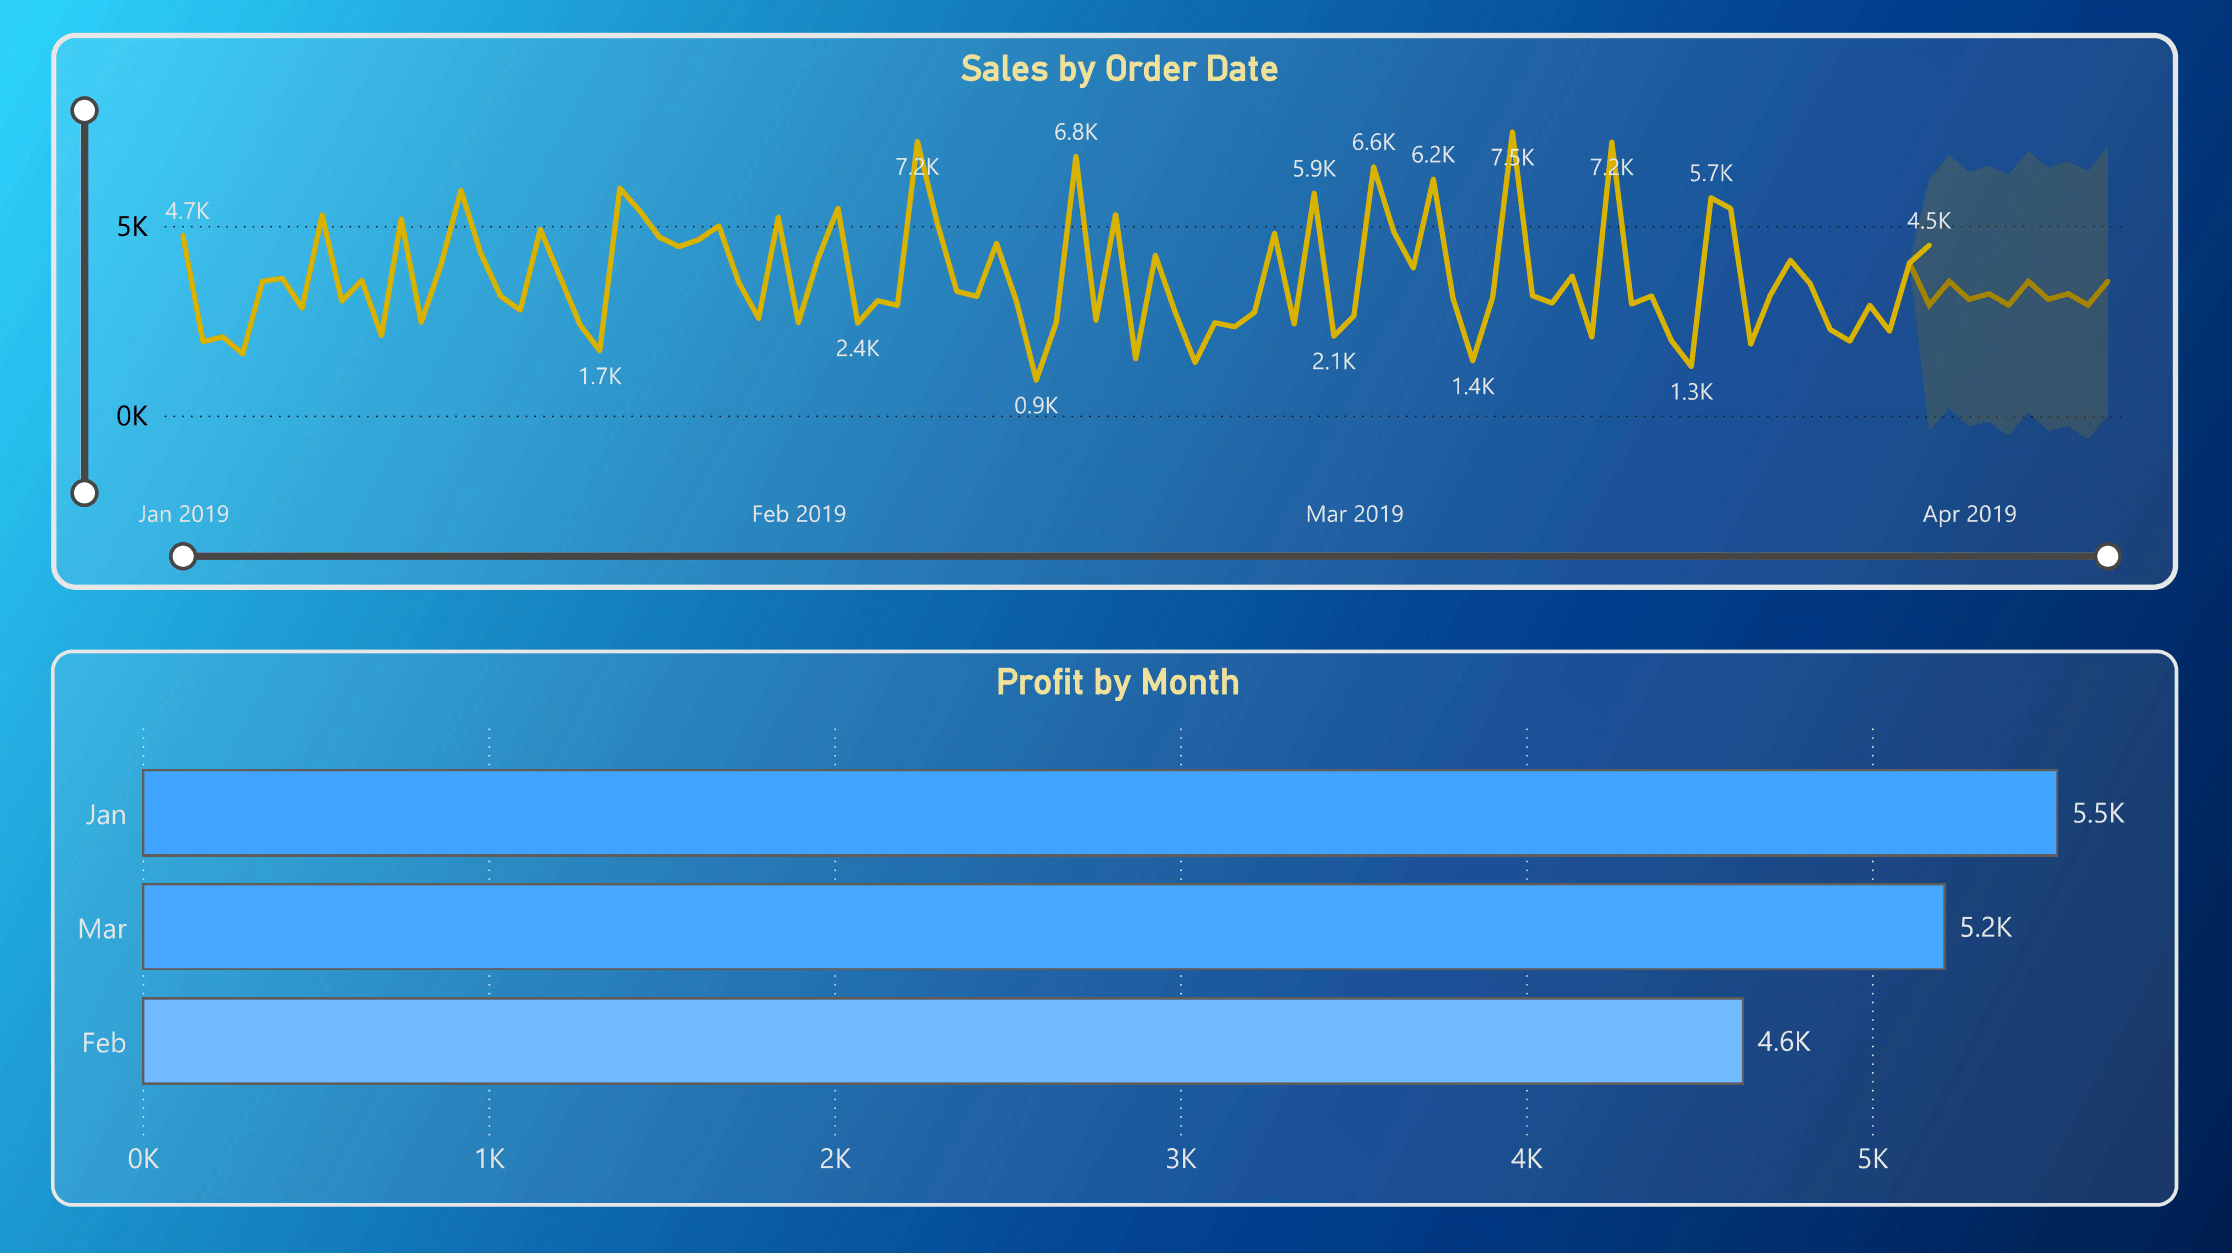

Layout of this report page (visuals, bound fields, positions):
{"tool":"powerbi","page":{"name":"Sales Trend","canvas":[1280,720],"ordinal":1},"visuals":[{"type":"lineChart","title":"Sales by Order Date","fields":{"Y":["Sum(SuperMarket Analysis.Total_Amount)"],"Category":["SuperMarket Analysis.Sales_Date.Variation.Date Hierarchy.Year","SuperMarket Analysis.Sales_Date.Variation.Date Hierarchy.Month","SuperMarket Analysis.Sales_Date.Variation.Date Hierarchy.Day"]},"box":[36,24,1208,316],"z":0},{"type":"clusteredBarChart","title":"Profit by Month","fields":{"Category":["SuperMarket Analysis.Month"],"Y":["Sum(SuperMarket Analysis.Profit)"]},"box":[36,374,1208,316],"z":1000}]}

Visuals, with their boxes in screenshot pixels (x1, y1, x2, y2), scaled from the page's 1280x720 canvas onto the 2232x1253 screenshot:
"Sales by Order Date" lineChart: [left=63, top=42, right=2169, bottom=592]
"Profit by Month" clusteredBarChart: [left=63, top=651, right=2169, bottom=1201]
